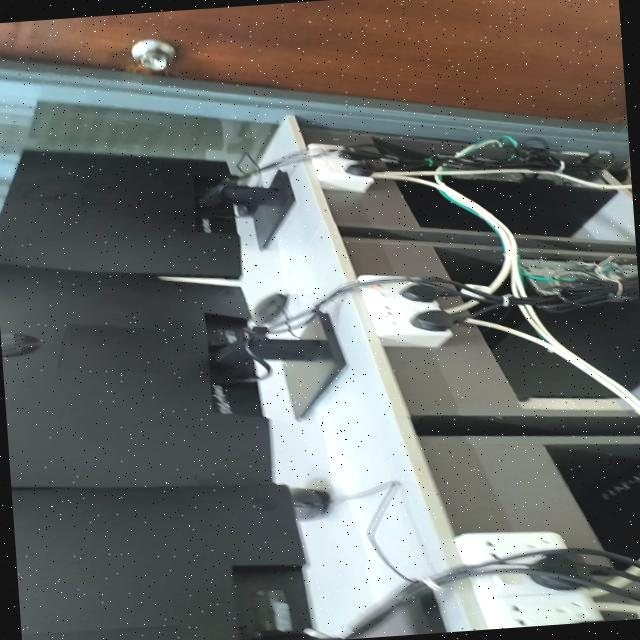Cpu: (520, 258, 640, 388), (492, 333, 614, 397)
Monitor: (0, 263, 271, 486), (11, 483, 311, 640), (0, 149, 240, 277)
Mouse: (290, 487, 329, 520), (251, 291, 286, 325)
